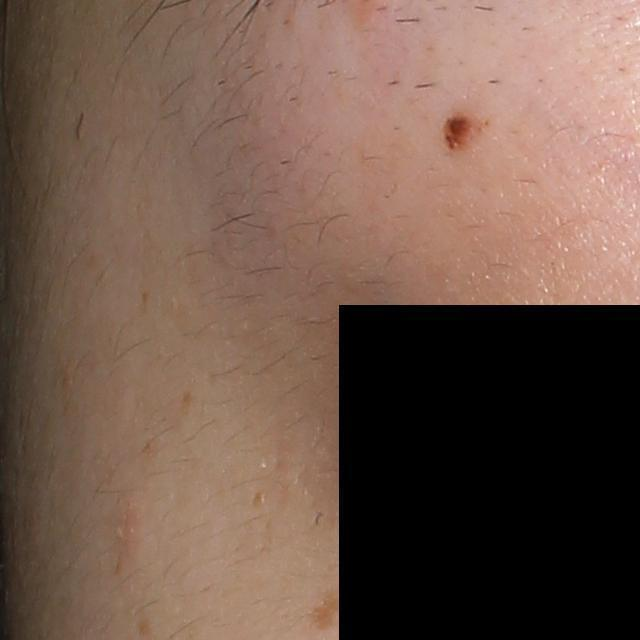melasma: (303, 590, 352, 635), (177, 392, 196, 422), (245, 488, 268, 509)
nevus: (440, 108, 490, 155)
